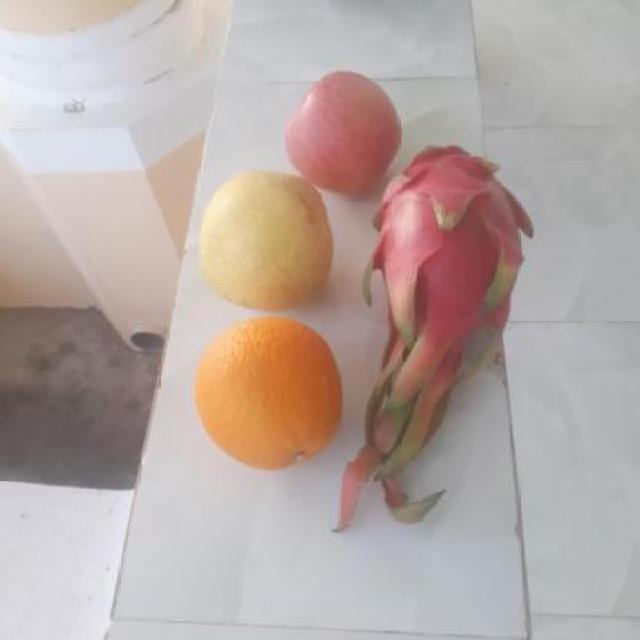apple: (286, 71, 408, 194)
dragon fruit: (368, 142, 541, 346)
oren: (189, 318, 348, 467)
pear: (192, 171, 341, 309)
